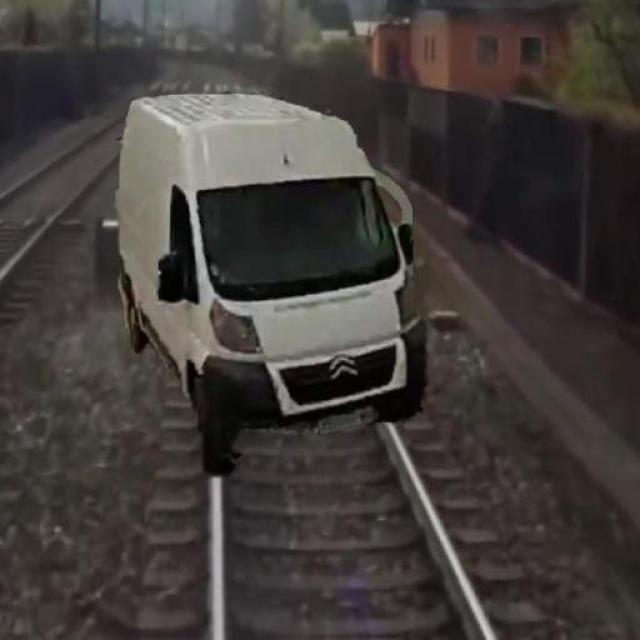vehicle: (97, 89, 442, 461)
